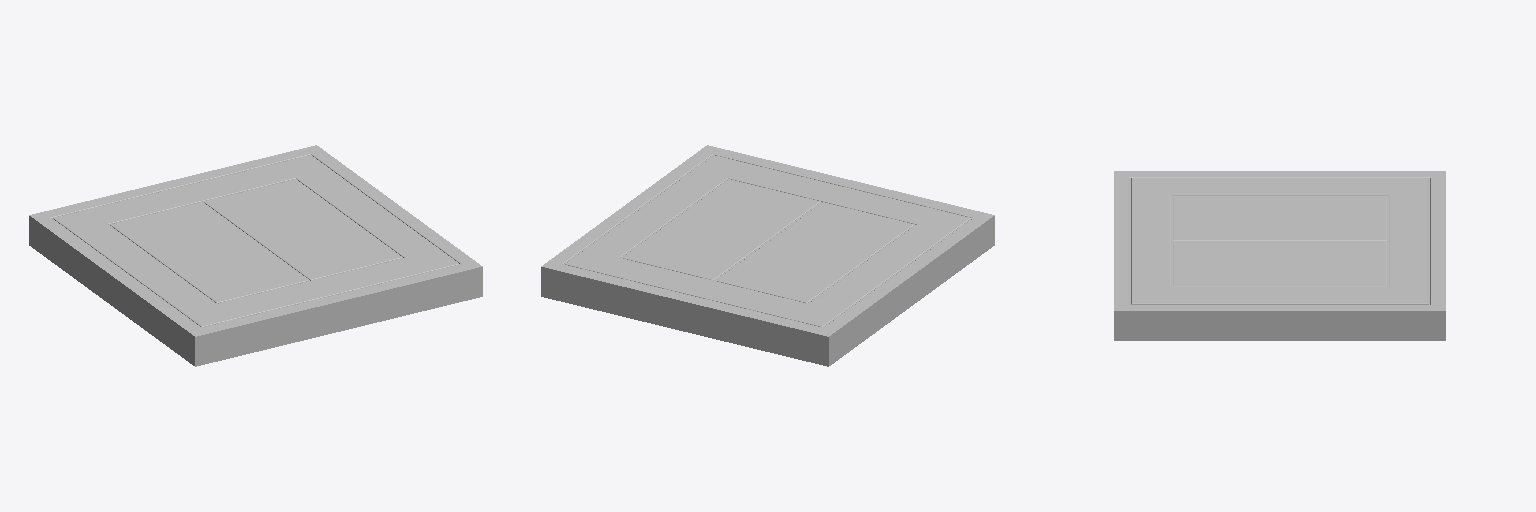
The model's file is door.obj.
3 views of the same model, side by side, from view 1: azimuth 30°, elevation 25°; view 2: azimuth 150°, elevation 25°; view 3: azimuth 270°, elevation 25° (orthographic).
Parts seen in each view (by area): view 1: Cube.001; view 2: Cube.001; view 3: Cube.001.
Part boxes in pixels (x1,y1,x2,y2): Cube.001: (29, 145, 482, 366); Cube.001: (541, 145, 994, 366); Cube.001: (1114, 171, 1445, 340).
Bounding box in the file's own units: 0.4 × 0.04 × 0.4.